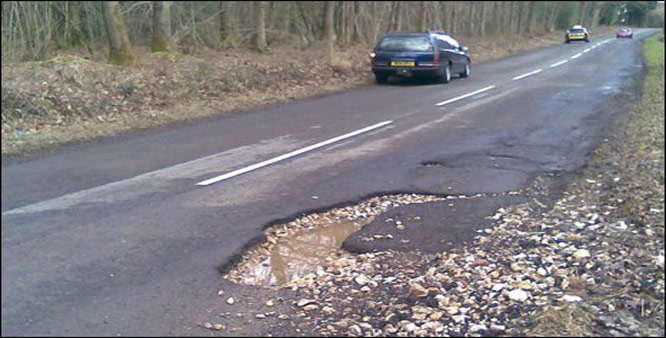pothole: (208, 169, 429, 312)
